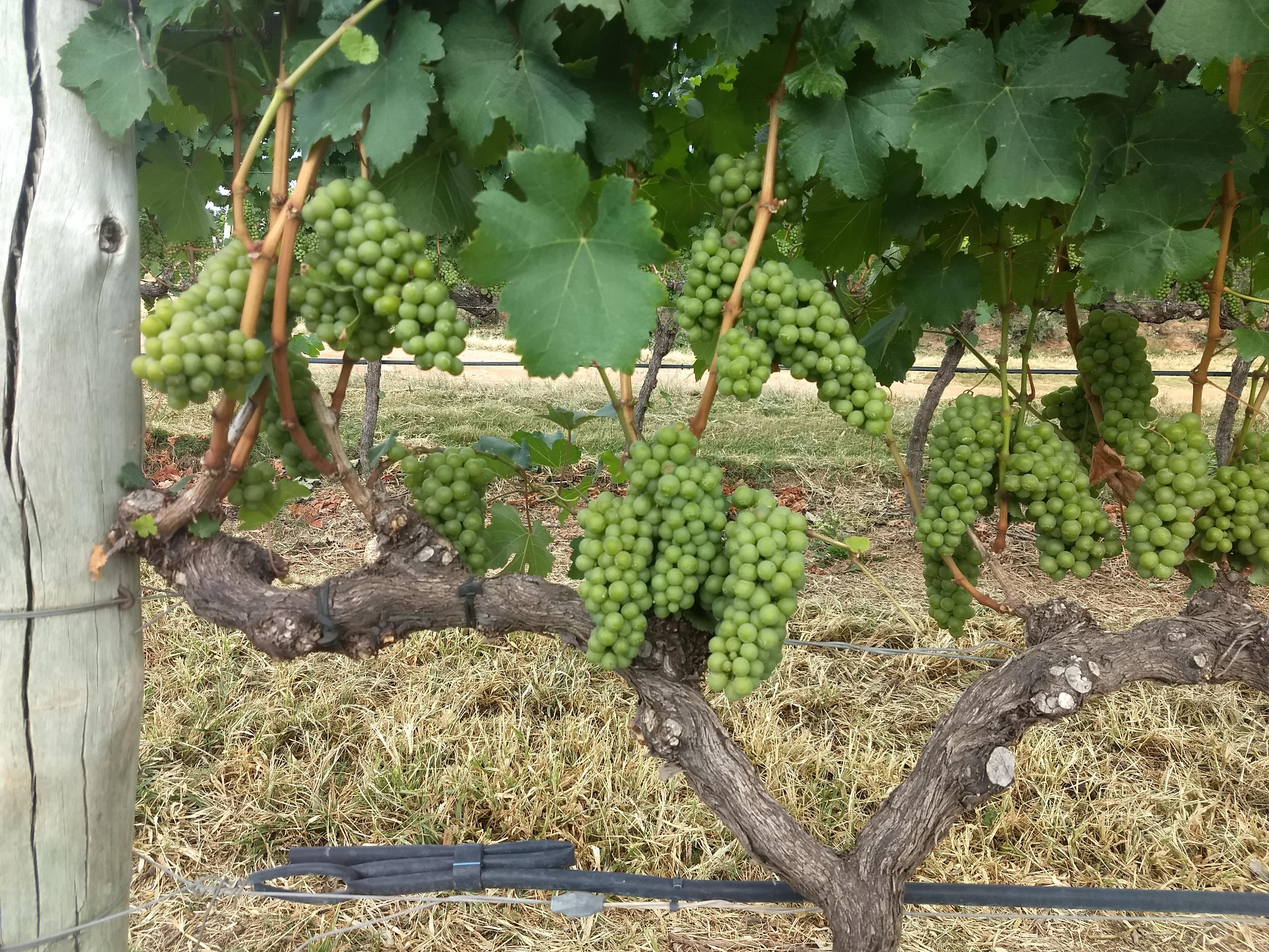leaf: (461, 146, 667, 377), (911, 16, 1125, 207), (296, 7, 445, 169), (437, 0, 593, 148), (780, 63, 917, 197), (1081, 166, 1219, 293), (58, 0, 168, 138), (375, 140, 480, 234), (137, 136, 224, 242), (848, 0, 969, 65), (802, 183, 886, 272), (1150, 0, 1268, 62), (900, 248, 981, 328), (686, 0, 786, 60), (784, 20, 859, 99), (639, 173, 716, 247), (684, 76, 754, 154), (587, 82, 651, 165), (860, 304, 922, 385), (485, 503, 553, 576), (148, 85, 207, 137), (621, 0, 692, 40), (142, 0, 210, 25), (339, 27, 379, 64), (1081, 0, 1145, 22), (1232, 327, 1268, 360), (1184, 559, 1215, 597), (116, 461, 149, 490), (186, 512, 221, 538)
